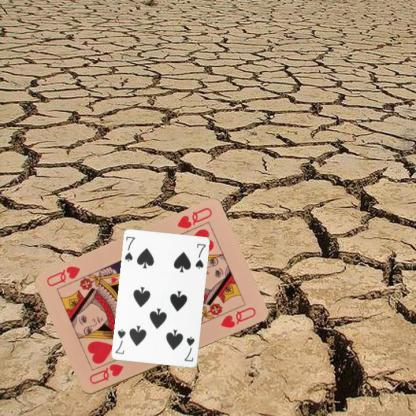7s: (182, 334, 196, 363), (122, 234, 136, 263)
Qh: (174, 205, 213, 231), (86, 361, 125, 386)
